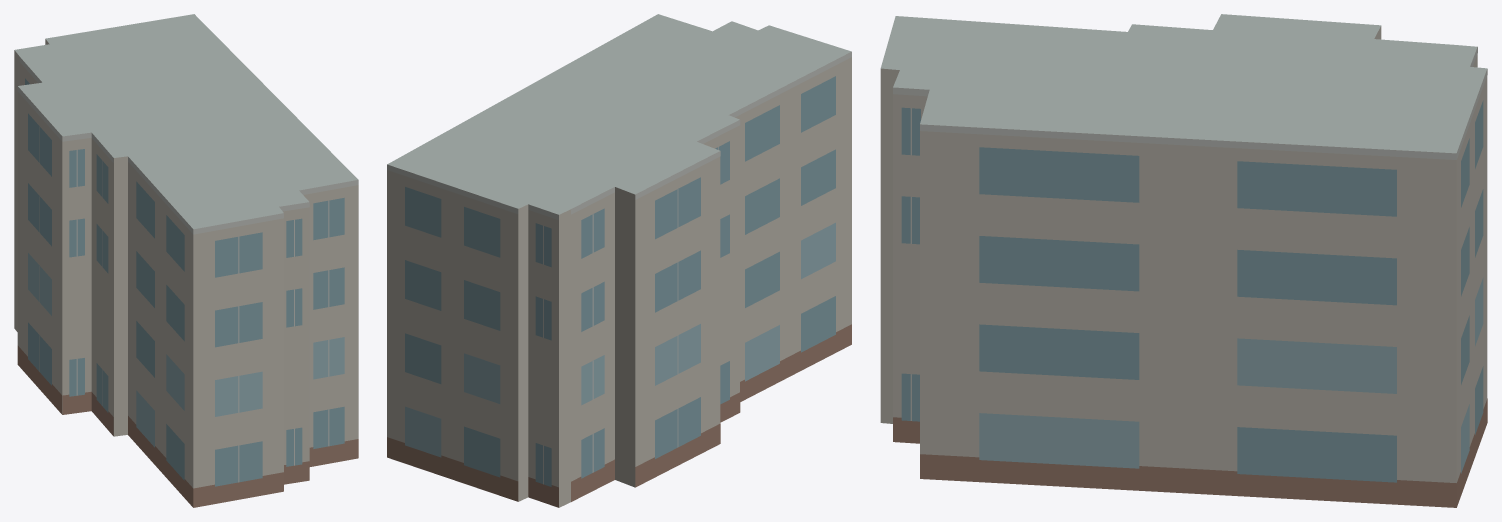
The model's file is survey-upis-32824758.glb.
3 renders of one model, left to right at view 1: azimuth 30°, elevation 25°; view 2: azimuth 150°, elevation 25°; view 3: azimuth 270°, elevation 25°, orthographic. The views are drawn at different scales.
Parts seen in each view (by area): view 1: survey-upis-32824758.tmp; view 2: survey-upis-32824758.tmp; view 3: survey-upis-32824758.tmp.
Part boxes in pixels (x1=…): survey-upis-32824758.tmp: x1=14, y1=14, x2=358, y2=507; survey-upis-32824758.tmp: x1=387, y1=14, x2=851, y2=507; survey-upis-32824758.tmp: x1=880, y1=14, x2=1487, y2=507.
Bounding box in the file's own units: 10.89 × 12.9 × 20.02.
